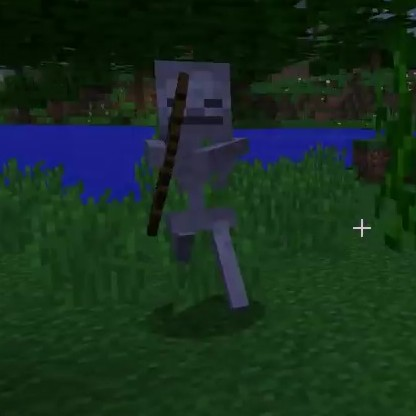skeleton: (143, 56, 255, 311)
